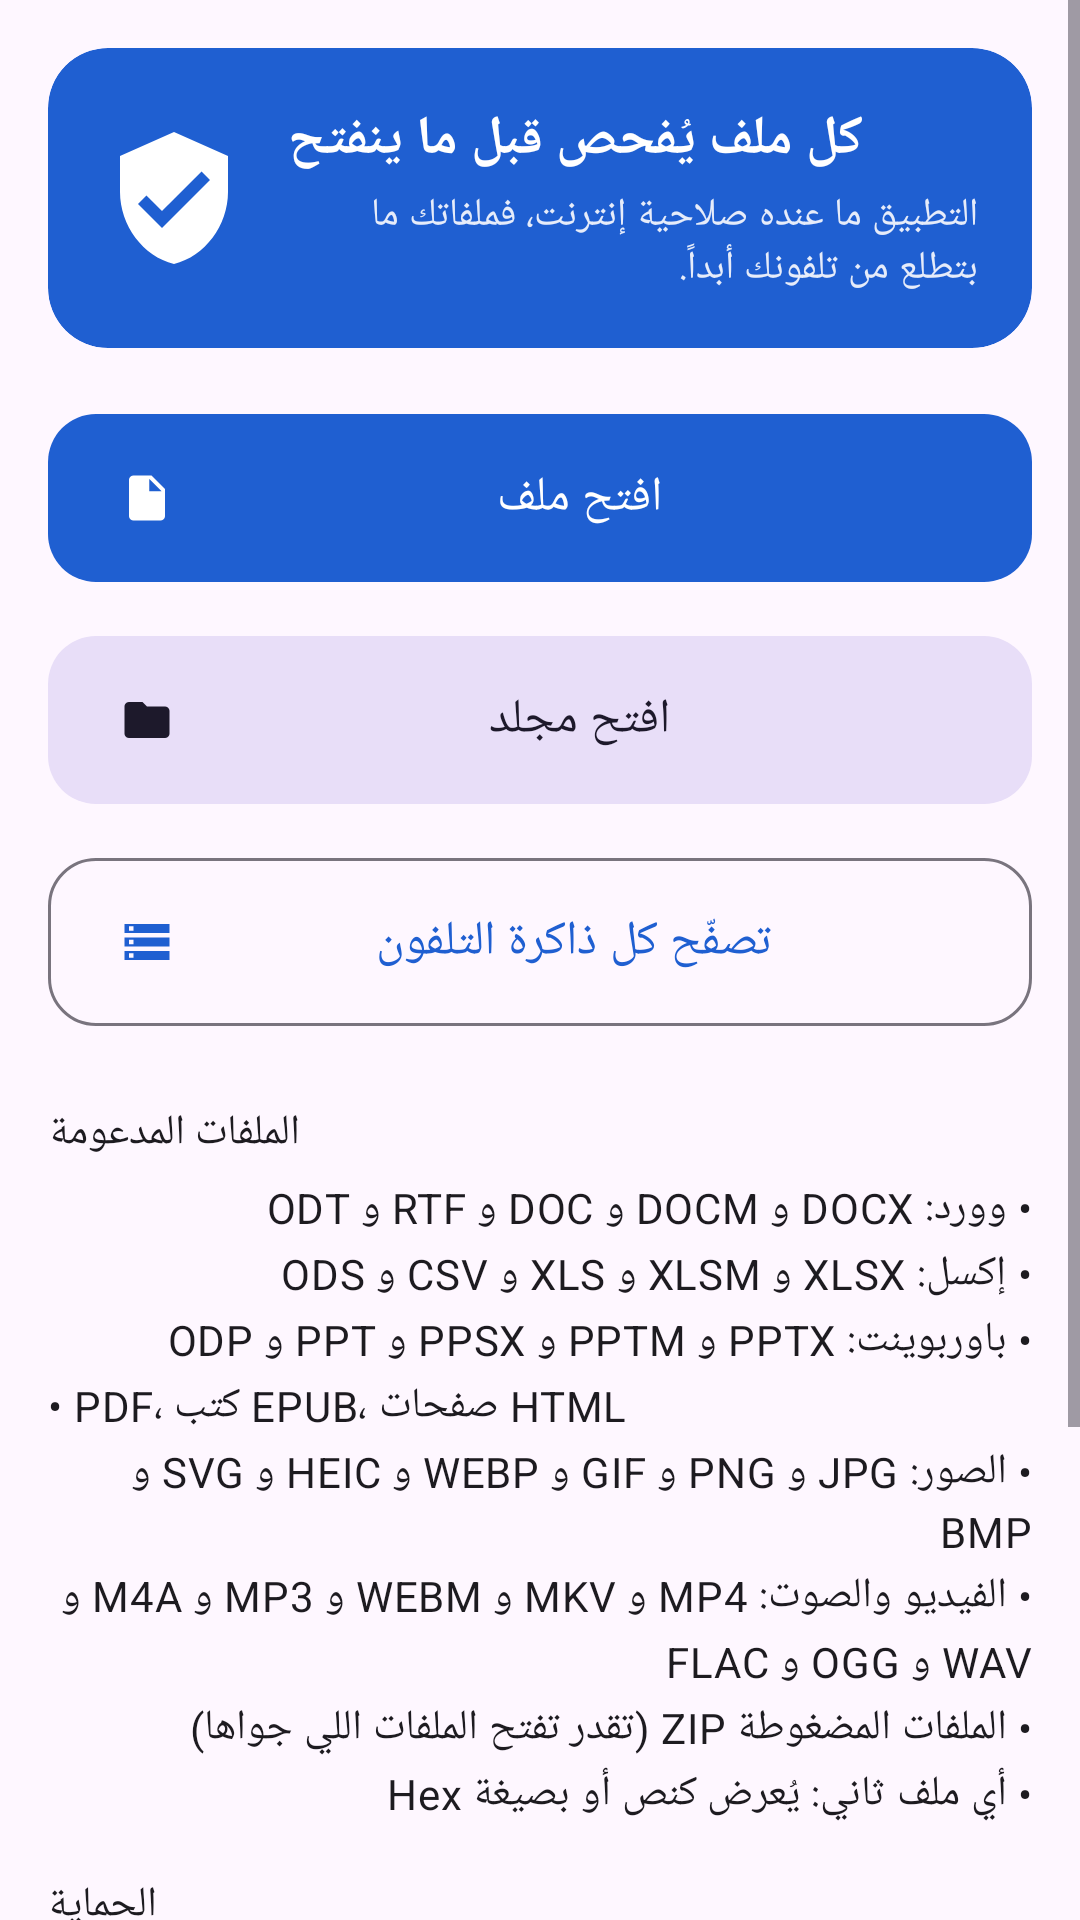

Locate icon controls on the screen. Image size 1080x1920, boxes as (x1, y1, x2, y2).
shield: (120, 132, 228, 264)
